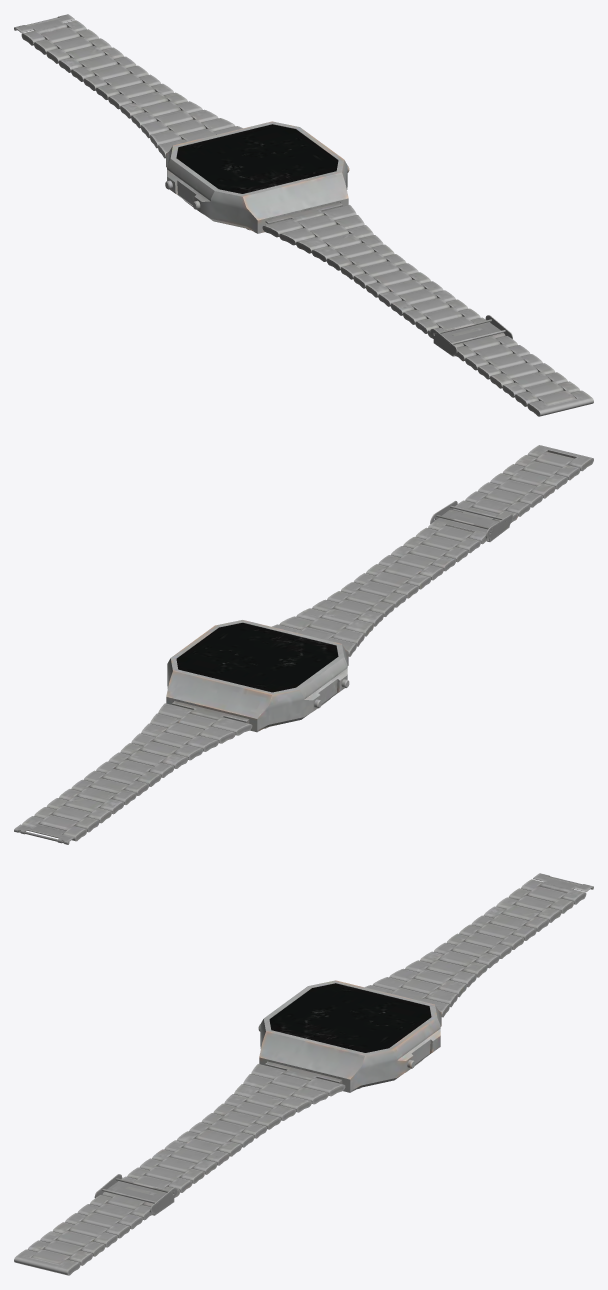
The model's file is digital_wrist_watch.glb.
3 views of the same model, one above another, from view 1: azimuth 30°, elevation 25°; view 2: azimuth 150°, elevation 25°; view 3: azimuth 330°, elevation 25° (orthographic).
Parts seen in each view (by area): view 1: digital_wrist_watch_strap_b, digital_wrist_watch, digital_wrist_watch_strap_a, digital_wrist_watch_clasp; view 2: digital_wrist_watch_strap_b, digital_wrist_watch, digital_wrist_watch_strap_a, digital_wrist_watch_clasp; view 3: digital_wrist_watch_strap_b, digital_wrist_watch, digital_wrist_watch_strap_a, digital_wrist_watch_clasp.
Part boxes in pixels (bbox=[...]): digital_wrist_watch_strap_b: bbox=[262, 202, 593, 416]; digital_wrist_watch: bbox=[165, 121, 349, 233]; digital_wrist_watch_strap_a: bbox=[21, 20, 242, 158]; digital_wrist_watch_clasp: bbox=[14, 14, 74, 33]; digital_wrist_watch_strap_b: bbox=[272, 445, 593, 656]; digital_wrist_watch: bbox=[166, 620, 349, 732]; digital_wrist_watch_strap_a: bbox=[22, 701, 252, 841]; digital_wrist_watch_clasp: bbox=[14, 824, 74, 844]; digital_wrist_watch_strap_b: bbox=[14, 1061, 345, 1275]; digital_wrist_watch: bbox=[258, 980, 441, 1092]; digital_wrist_watch_strap_a: bbox=[365, 879, 586, 1017]; digital_wrist_watch_clasp: bbox=[533, 873, 593, 892].
Bounding box in the file's own units: 0.0365 × 0.00834 × 0.2172.
2 materials, 2 textured.
